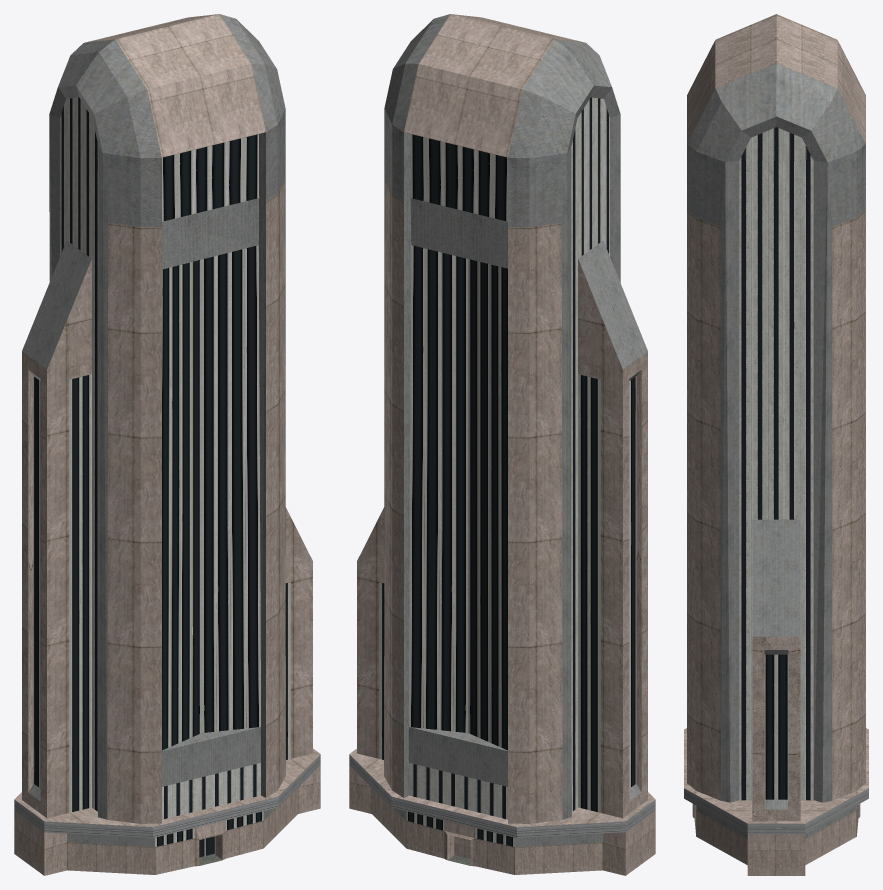
Rendered from thm_corl_skyskraper_s04_r0_mesh_l2.fbx.
The picture shows the model from 3 angles, left to right: view 1: azimuth 30°, elevation 25°; view 2: azimuth 150°, elevation 25°; view 3: azimuth 270°, elevation 25°; orthographic projection. The views are drawn at different scales.
Visible parts, largest first — view 1: mesh_node; view 2: mesh_node; view 3: mesh_node.
Part boxes in pixels (x1,y1,x2,y2): mesh_node: (14,14,320,875); mesh_node: (349,14,655,875); mesh_node: (684,14,868,875).
Bounding box in the file's own units: 53 × 148 × 32.
